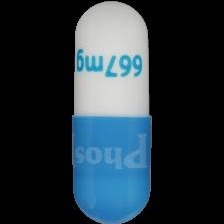54868-5691: (0, 0, 224, 224)
